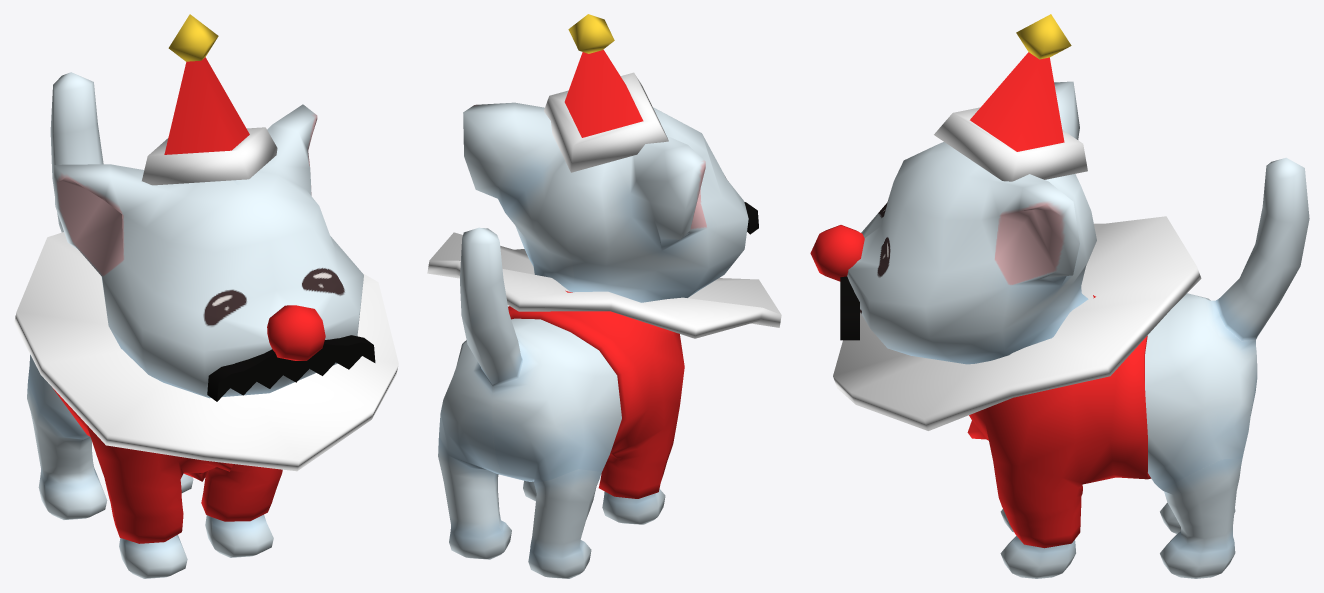
Rendered from Performer Cat05.fbx.
3 renders of one model, left to right at view 1: azimuth 30°, elevation 25°; view 2: azimuth 150°, elevation 25°; view 3: azimuth 270°, elevation 25°, orthographic. The views are drawn at different scales.
Parts seen in each view (by area): view 1: Cat_Base004, Performer_Cat_Neck, Performer_Cat_Shirt, Performer_Cat_Hat, Performer_Cat_Face; view 2: Cat_Base004, Performer_Cat_Shirt, Performer_Cat_Neck, Performer_Cat_Hat; view 3: Cat_Base004, Performer_Cat_Neck, Performer_Cat_Shirt, Performer_Cat_Hat, Performer_Cat_Face.
Boxes of the visible parts, x1,y1,x2,y2 form: Cat_Base004: (27,72,363,578); Performer_Cat_Neck: (14,232,398,471); Performer_Cat_Shirt: (53,388,282,543); Performer_Cat_Hat: (142,14,277,185); Performer_Cat_Face: (207,305,375,401); Cat_Base004: (438,102,748,578); Performer_Cat_Shirt: (508,290,684,498); Performer_Cat_Neck: (427,232,781,338); Performer_Cat_Hat: (544,14,668,172); Cat_Base004: (847,81,1309,578); Performer_Cat_Neck: (833,216,1201,430); Performer_Cat_Shirt: (967,295,1151,548); Performer_Cat_Hat: (934,14,1087,181); Performer_Cat_Face: (810,225,864,340).
Size of the model in its own units: 2.3 by 2.99 by 3.53.
5 materials, 1 textured.
